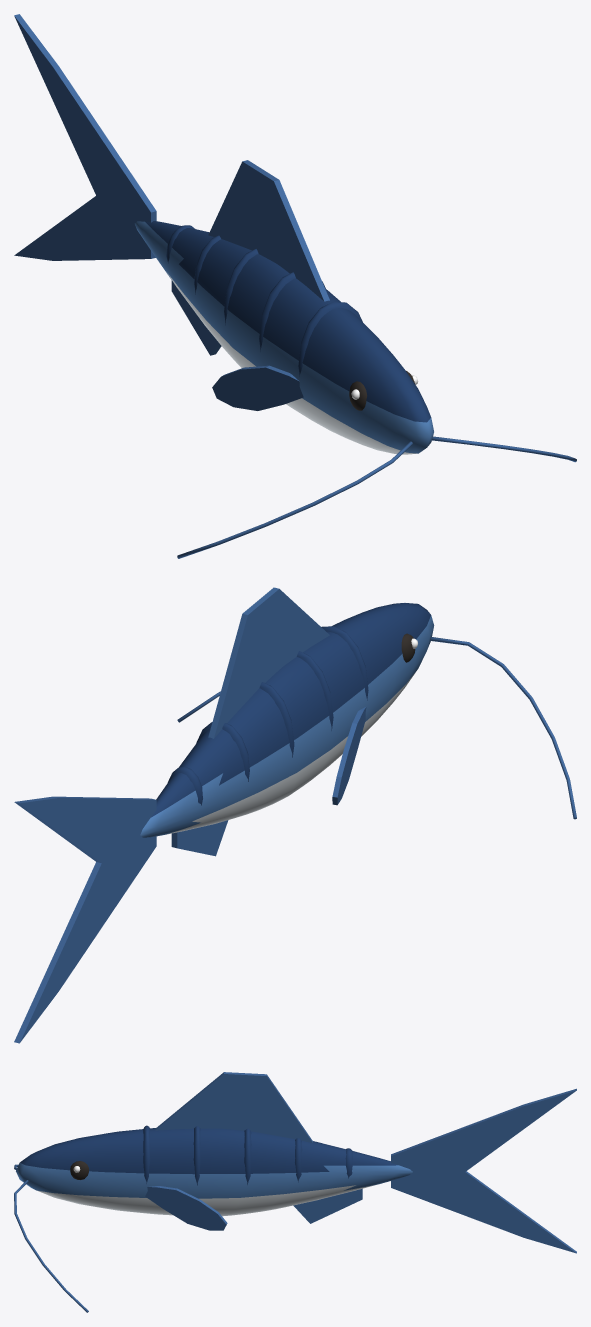
File: fish-marlin.glb
3 views of the same model, one above another, from view 1: azimuth 30°, elevation 25°; view 2: azimuth 150°, elevation 25°; view 3: azimuth 270°, elevation 25° (orthographic). The views are drawn at different scales.
Parts seen in each view (by area): view 1: fish; view 2: fish; view 3: fish.
Boxes of the visible parts, x1,y1,x2,y2 form: fish: (14,14,576,558); fish: (14,587,576,1043); fish: (14,1072,576,1312).
Bounding box in the file's own units: 0.4258 × 0.2692 × 0.7645.
